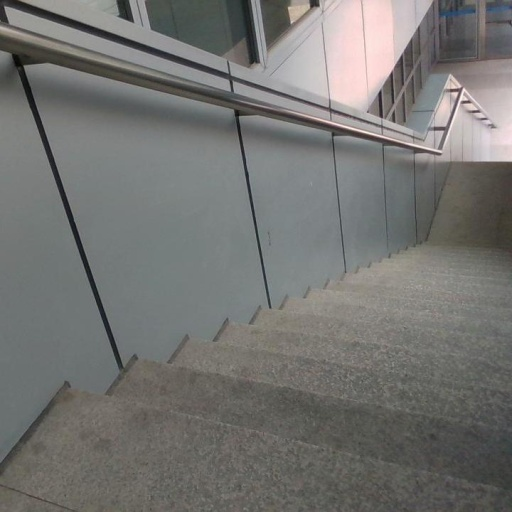Stairs: (0, 164, 512, 512)
